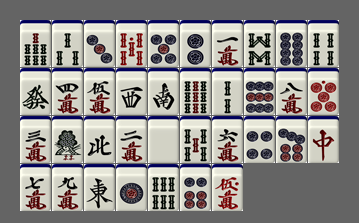0m: (212, 164, 243, 211)
0p: (308, 68, 339, 115)
0s: (116, 20, 147, 67)
1m: (212, 20, 243, 67)
1p: (116, 164, 147, 211)
1s: (52, 116, 83, 163)
1z: (84, 164, 115, 211)
2m: (116, 116, 147, 163)
2p: (180, 20, 211, 67)
2s: (212, 68, 243, 115)
2z: (148, 68, 179, 115)
3m: (20, 116, 51, 163)
3p: (84, 20, 115, 67)
3s: (52, 20, 83, 67)
3z: (116, 68, 147, 115)
4m: (52, 68, 83, 115)
4p: (244, 116, 275, 163)
4s: (308, 20, 339, 67)
4z: (84, 116, 115, 163)
5m: (84, 68, 115, 115)
5p: (148, 20, 179, 67)
5s: (180, 116, 211, 163)
5z: (148, 116, 179, 163)
6m: (212, 116, 243, 163)
6p: (180, 164, 211, 211)
6s: (148, 164, 179, 211)
6z: (20, 68, 51, 115)
7m: (20, 164, 51, 211)
7p: (276, 116, 307, 163)
7s: (20, 20, 51, 67)
7z: (308, 116, 339, 163)
8m: (276, 68, 307, 115)
8p: (276, 20, 307, 67)
8s: (244, 20, 275, 67)
9m: (52, 164, 83, 211)
9p: (244, 68, 275, 115)
9s: (180, 68, 211, 115)
